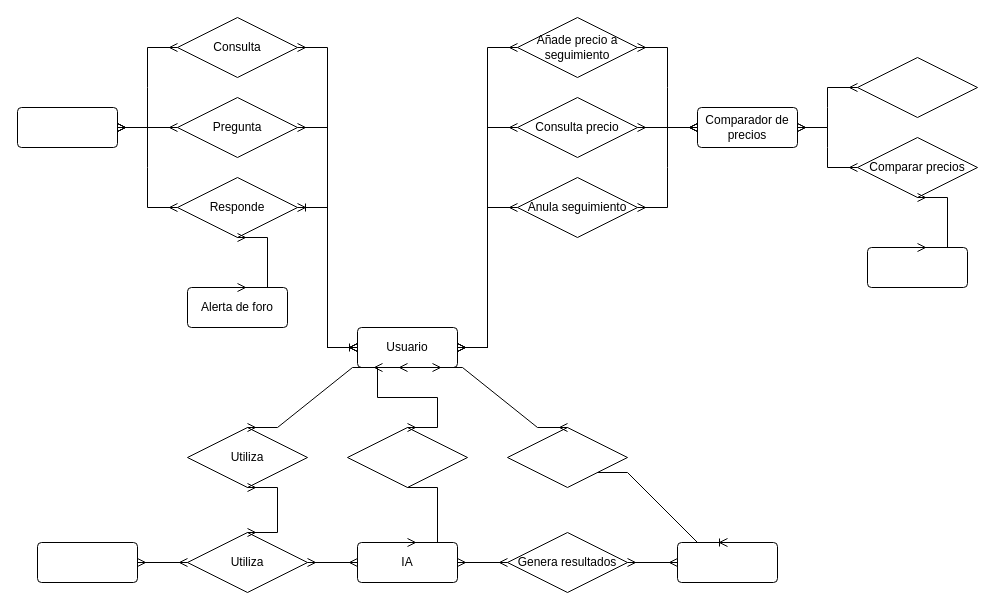
The diagram is 995 pixels wide and 610 high, and some of its shapes have lost their labels. The box of each missing label's shape, as (x1, y1, x2, y2) in pixels:
Alerta de precio: (866, 246, 968, 288)
Creador de PC: (36, 542, 138, 582)
Cuestionario: (676, 542, 778, 582)
Foro: (16, 106, 118, 148)
Obtener datos de la API: (856, 56, 978, 118)
Realiza: (506, 426, 628, 488)
Realiza cuestiones: (346, 426, 468, 488)
